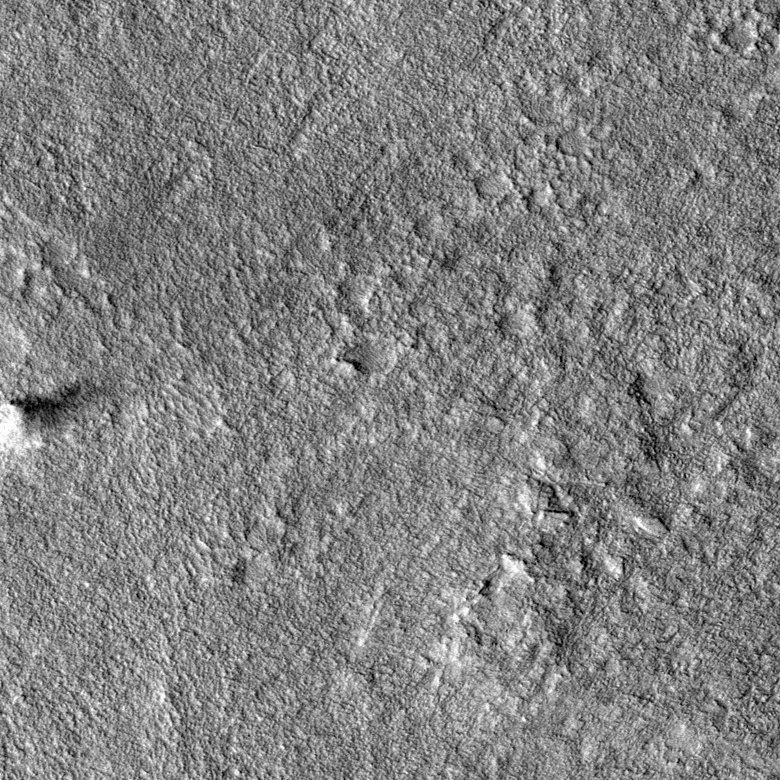dust_devil: (1, 377, 89, 453)
